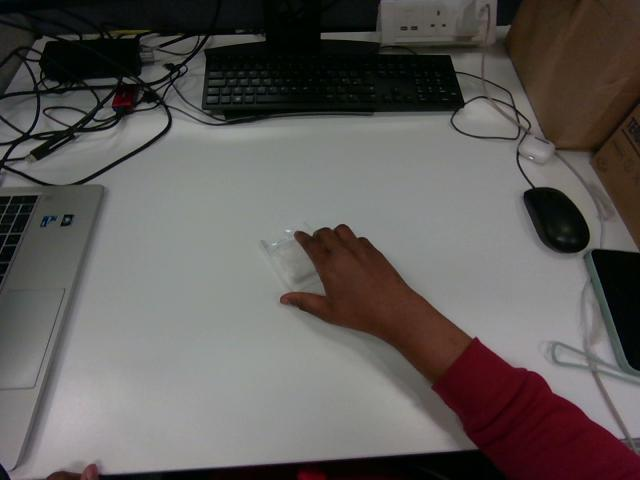gauze: (260, 223, 318, 290)
